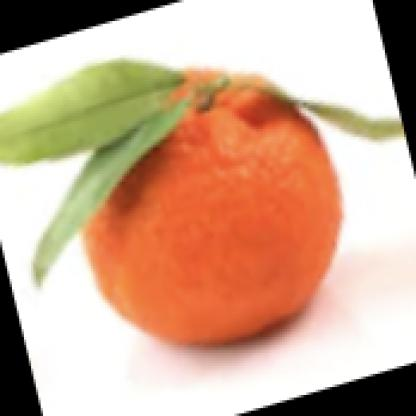orange: (58, 64, 343, 338)
